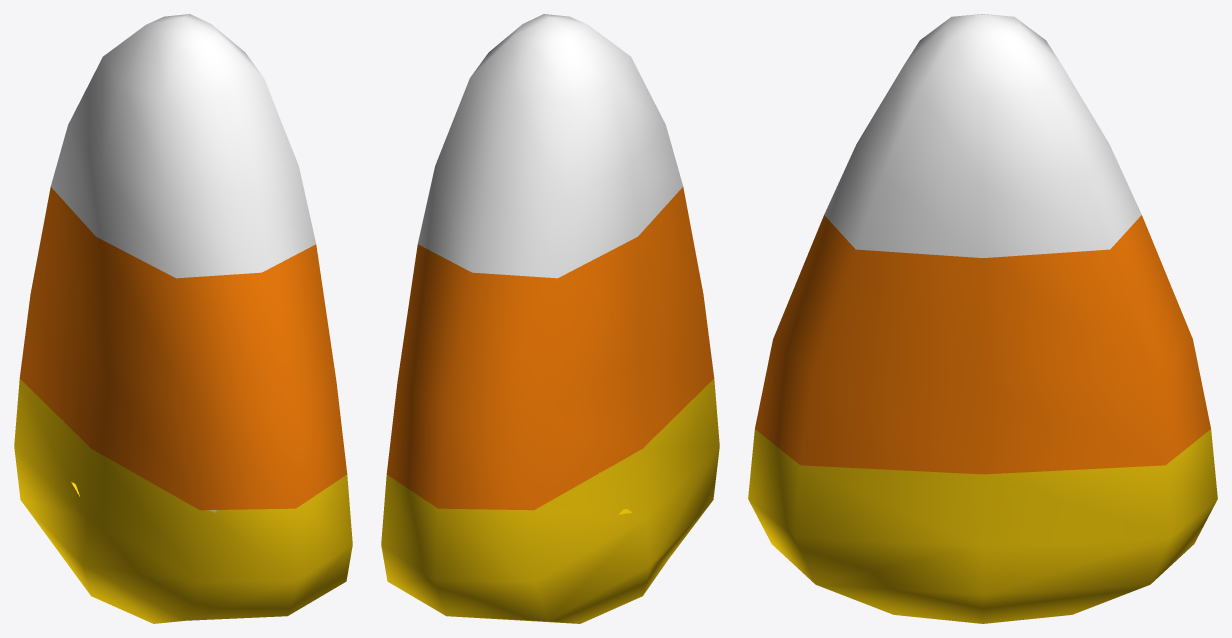
The model's file is candycorn.fbx.
3 views of the same model, side by side, from view 1: azimuth 30°, elevation 25°; view 2: azimuth 150°, elevation 25°; view 3: azimuth 270°, elevation 25° (orthographic).
Parts seen in each view (by area): view 1: candycorn; view 2: candycorn; view 3: candycorn.
Part boxes in pixels (x1,y1,x2,y2): candycorn: (14, 14, 352, 623); candycorn: (381, 14, 719, 623); candycorn: (748, 14, 1217, 623).
Bounding box in the file's own units: 11.21 × 30.18 × 22.49.
